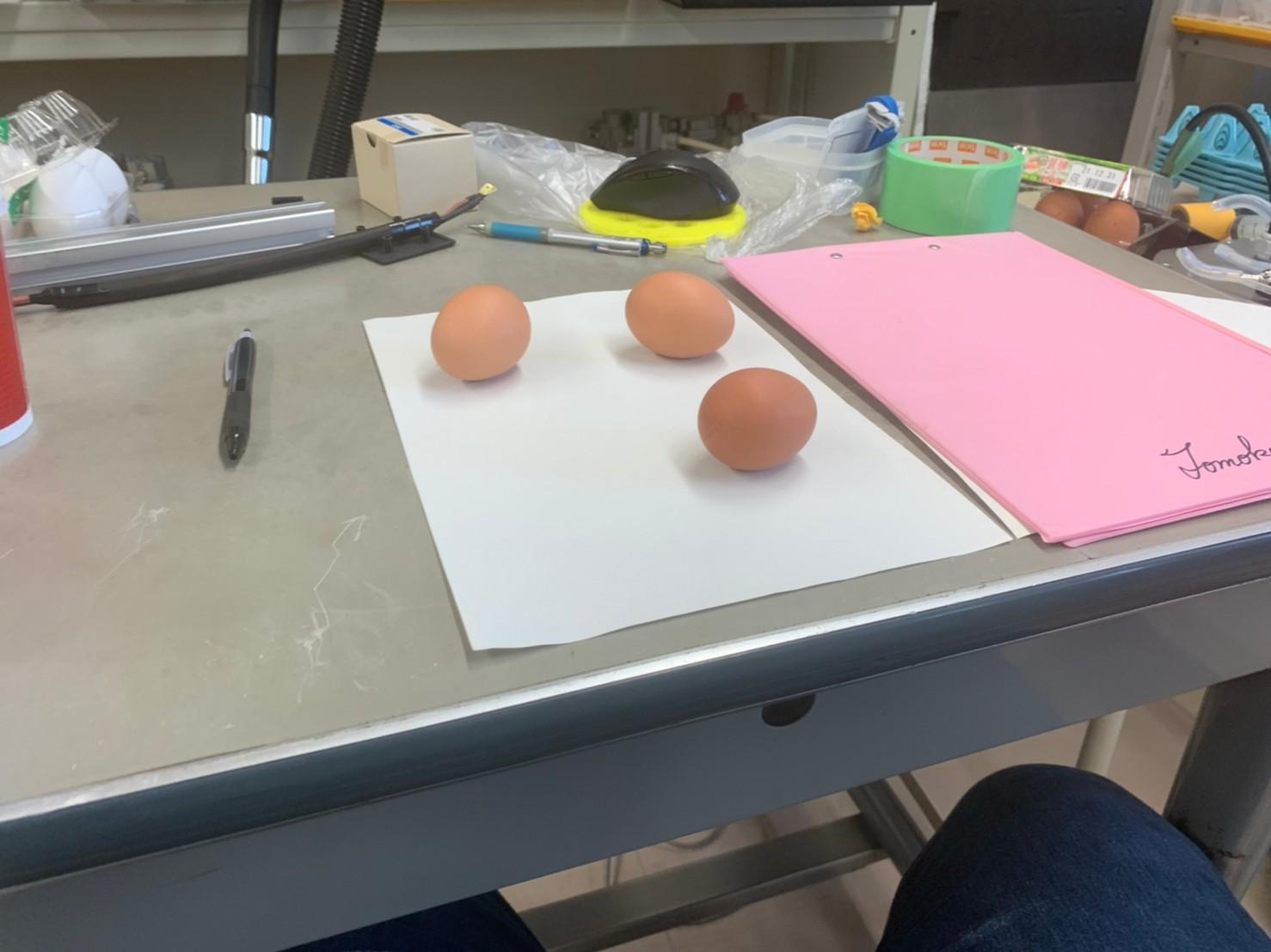egg: (689, 367, 823, 473), (619, 261, 737, 361), (427, 278, 538, 380)
